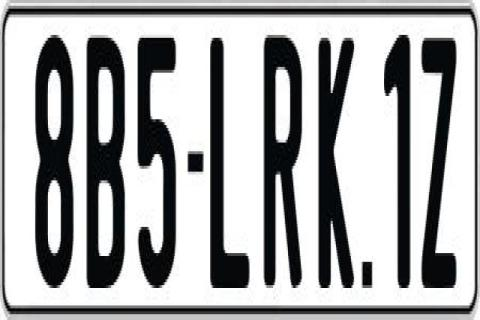0: (138, 29, 182, 282), (35, 35, 76, 303), (381, 35, 407, 299)
B: (84, 38, 129, 291)
K: (316, 29, 356, 282)
L: (207, 32, 247, 282)
R: (262, 32, 306, 296)
Z: (418, 38, 458, 306)
